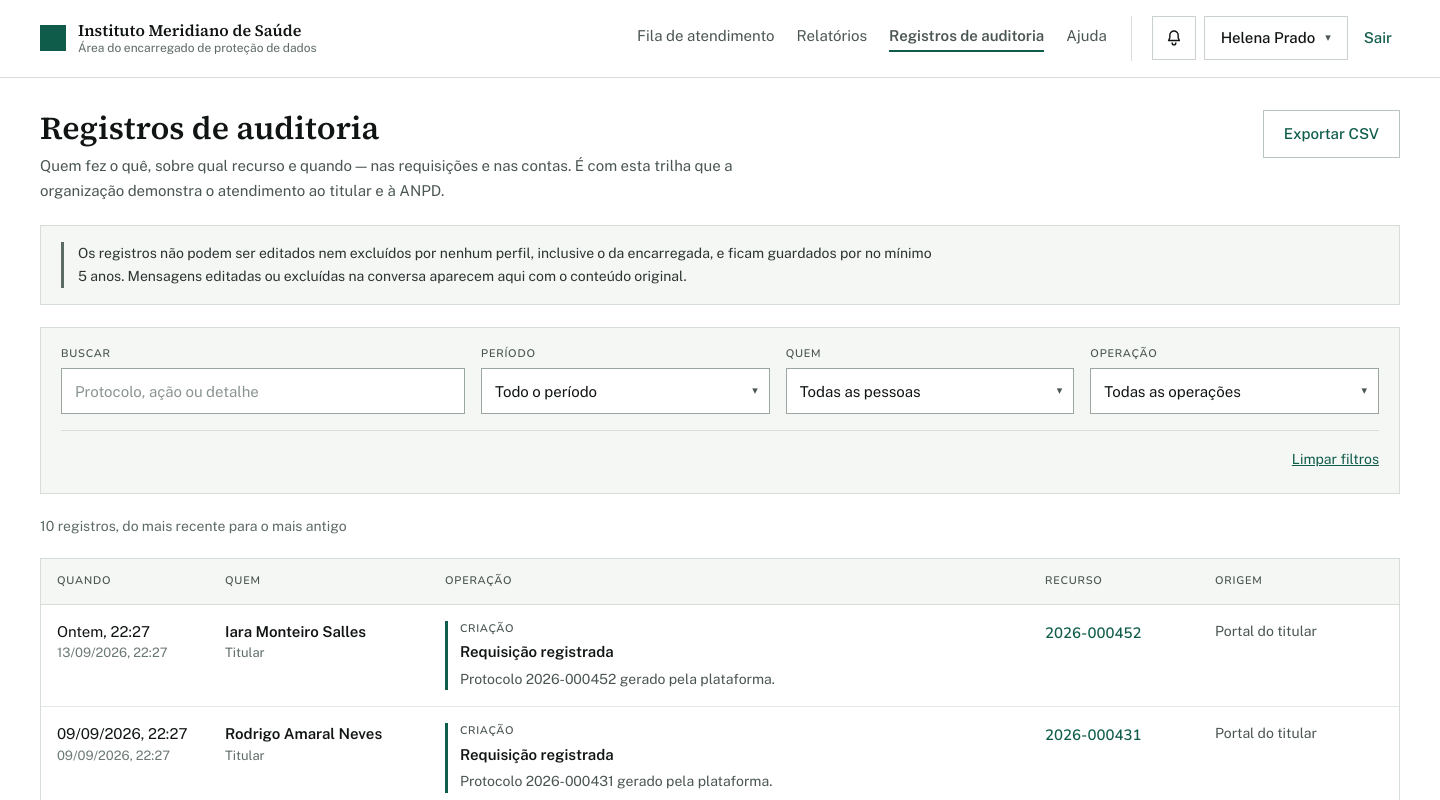
Test: Registros de auditoria › mostra o estado vazio quando o recorte não traz nada
Type "protocolo-que-nao-existe" into the search field labelled "Buscar" at coordinates (263, 391), box [61,368,465,414]
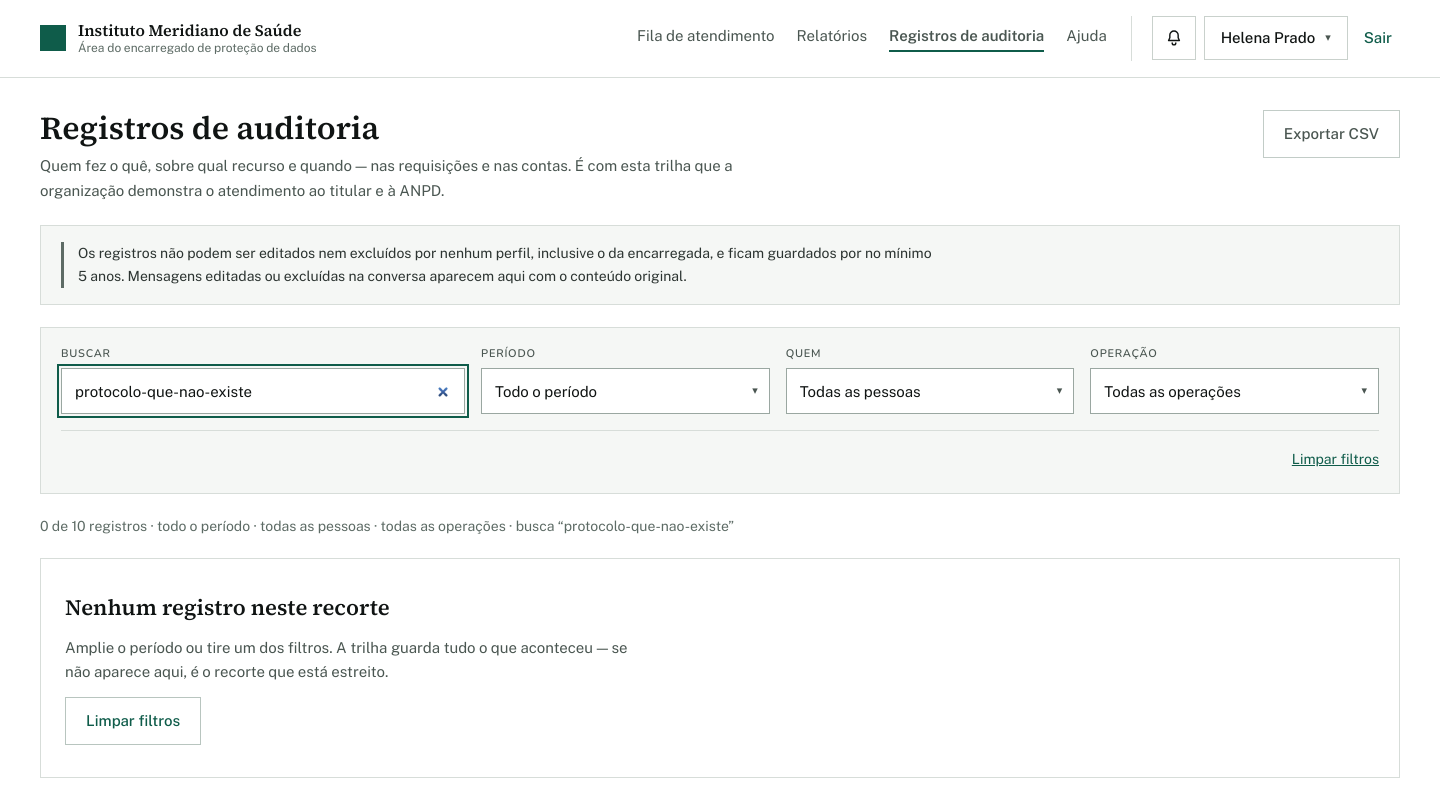
Result: the heading "Nenhum registro neste recorte" is shown at [65,591,390,624]
Click the button "Limpar filtros" below "Operação" at coordinates (1336, 459), box [1292,443,1379,475]
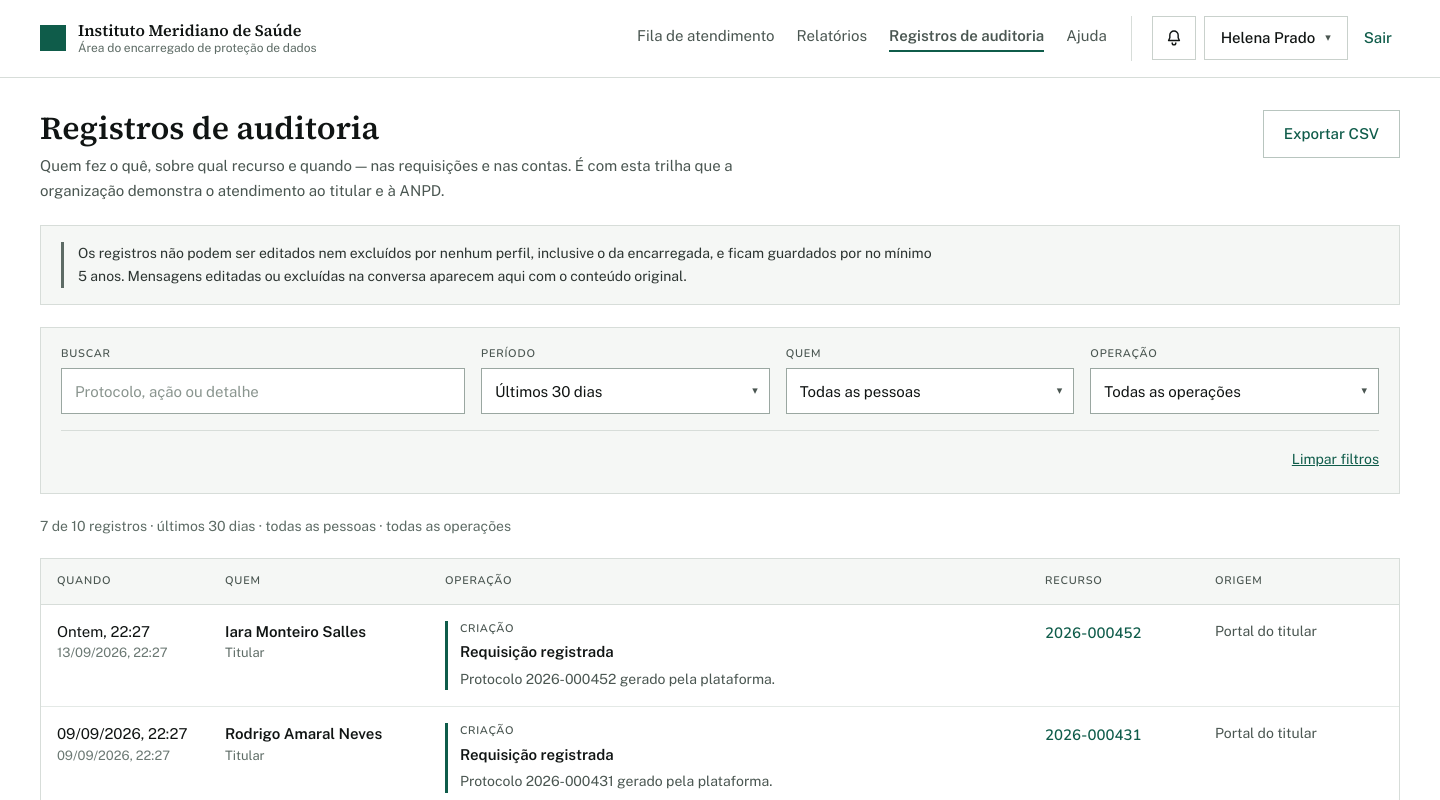
Result: the number of rows is more than 0
